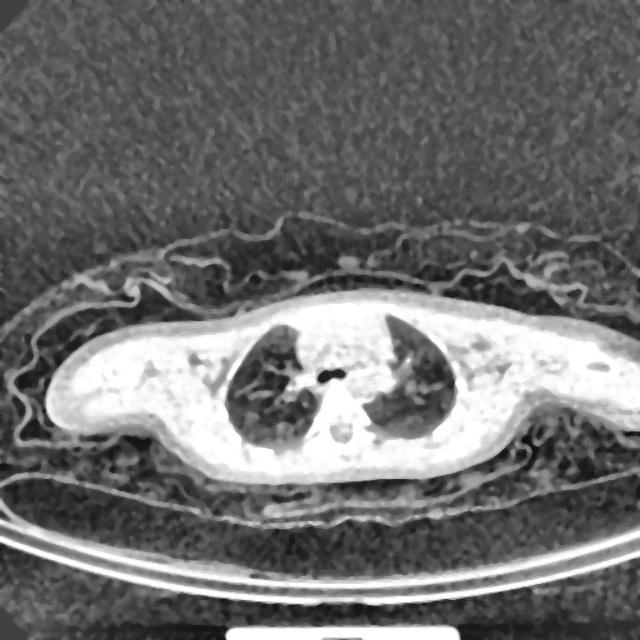covid: (43, 285, 638, 488)
